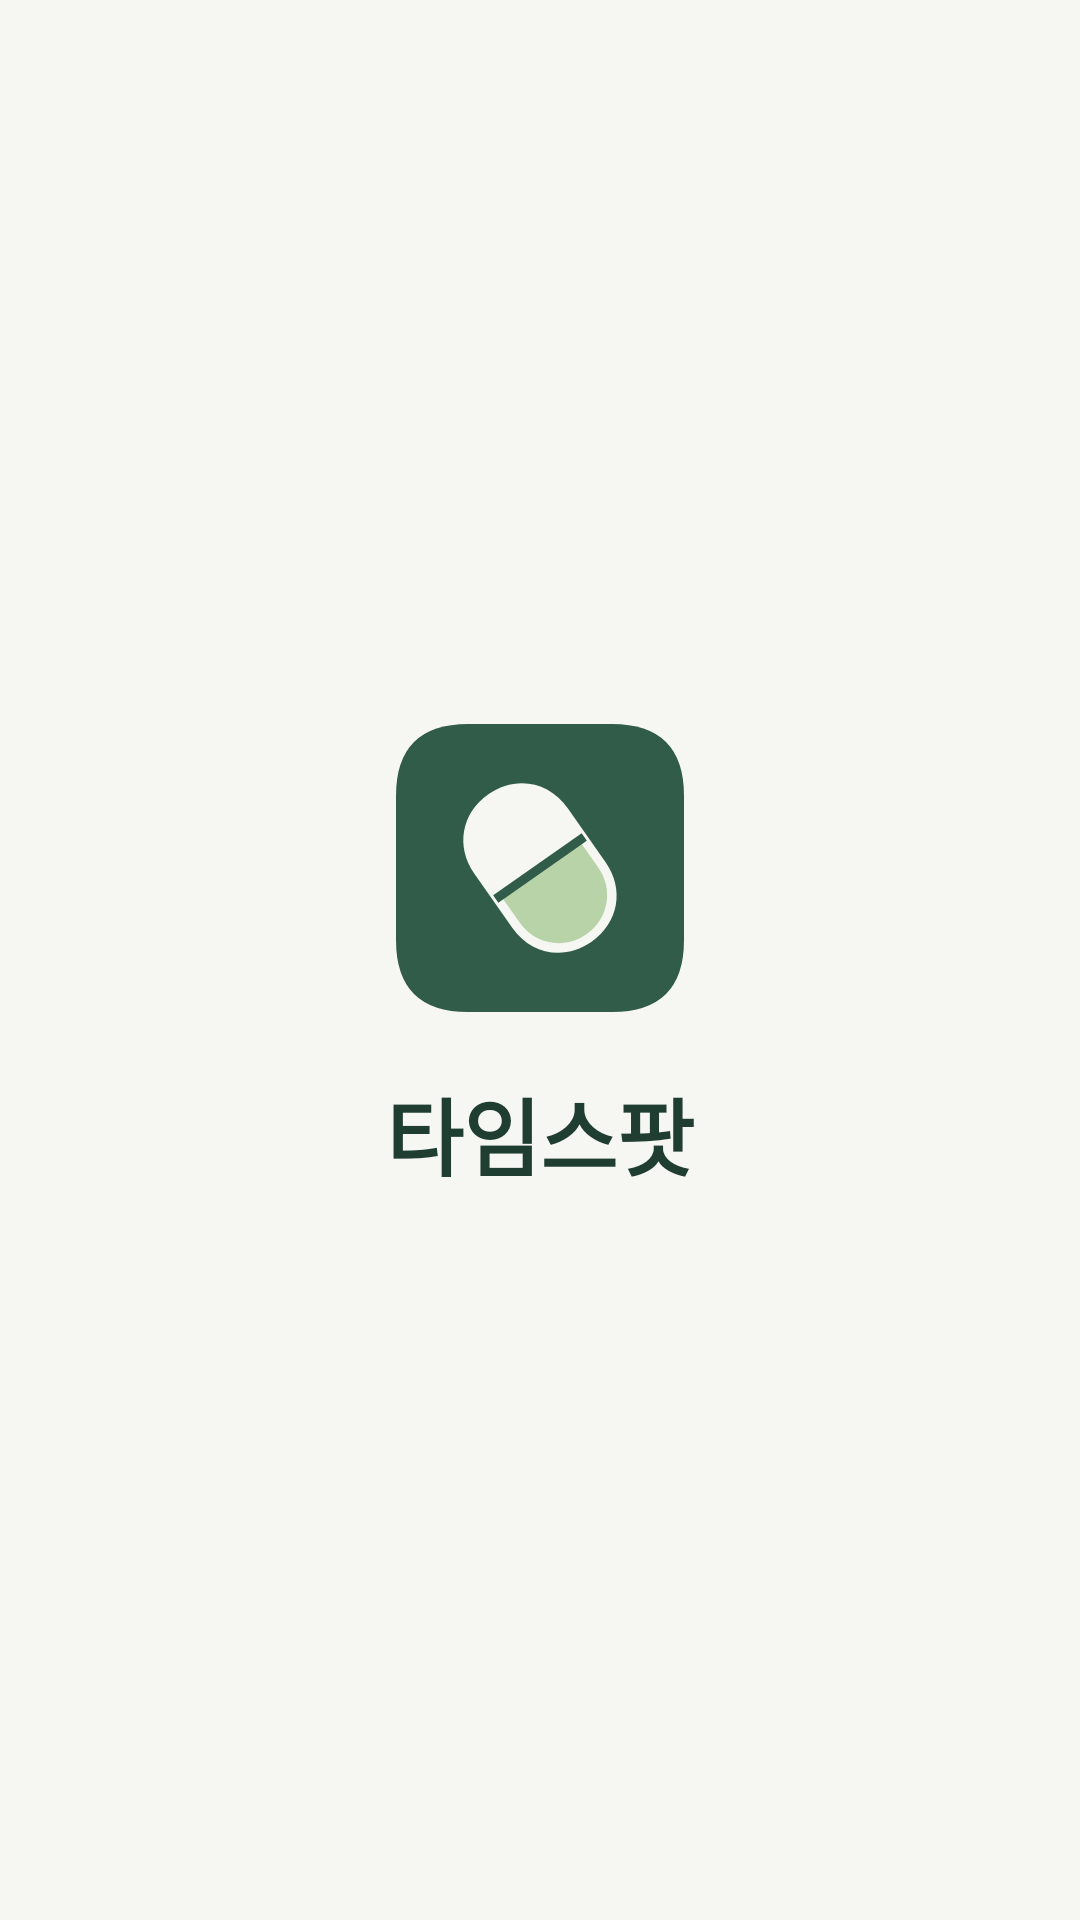

Where to tap for icons on this 1080x1920 app screen, as [x,y]:
capsule: [540,868]
